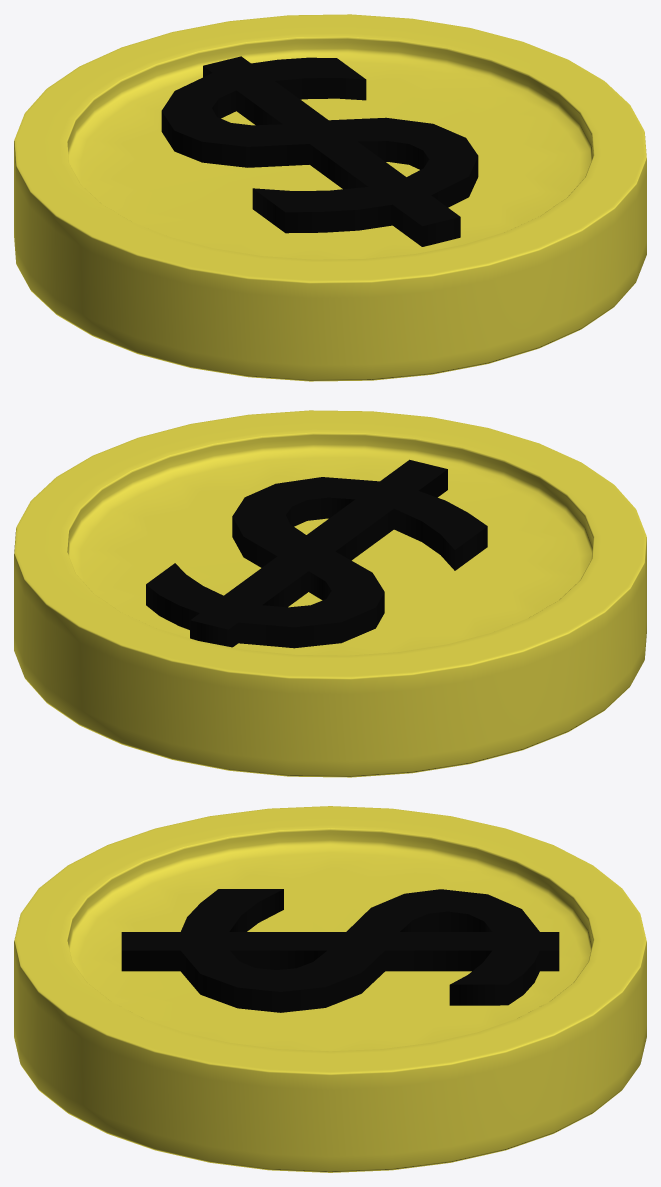
The model's file is Coin.fbx.
The picture shows the model from 3 angles, top to bottom: view 1: azimuth 30°, elevation 25°; view 2: azimuth 150°, elevation 25°; view 3: azimuth 270°, elevation 25°; orthographic projection.
Visible parts, largest first — view 1: Cylinder; view 2: Cylinder; view 3: Cylinder.
Part boxes in pixels (x1=…): Cylinder: x1=14, y1=14, x2=646, y2=381; Cylinder: x1=14, y1=410, x2=646, y2=777; Cylinder: x1=14, y1=806, x2=646, y2=1172.
Size of the model in its own units: 195 by 36.05 by 195.
